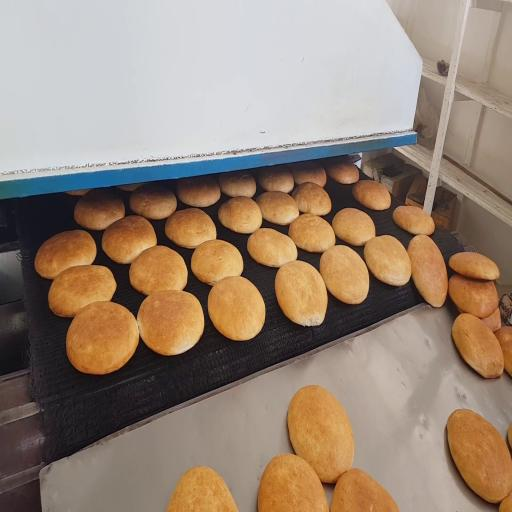bread: (288, 385, 354, 483), (447, 410, 511, 502), (67, 302, 138, 374), (137, 290, 204, 355), (258, 454, 328, 511), (48, 264, 117, 318), (208, 276, 265, 340), (275, 261, 327, 326), (452, 313, 503, 378), (167, 467, 237, 511), (35, 230, 96, 279), (320, 246, 369, 304), (331, 469, 398, 511), (408, 235, 447, 307), (130, 246, 187, 295), (102, 216, 156, 264), (364, 235, 411, 286), (191, 240, 243, 285), (449, 274, 498, 318), (74, 190, 125, 230), (165, 209, 216, 248), (247, 229, 297, 267), (289, 214, 335, 252), (332, 208, 375, 246), (218, 196, 262, 233), (130, 184, 176, 219), (256, 191, 299, 225), (176, 176, 221, 208), (449, 252, 499, 280), (292, 182, 331, 215), (393, 206, 434, 235), (353, 180, 390, 210), (258, 165, 294, 193), (218, 171, 256, 197), (323, 158, 359, 184), (291, 161, 326, 187), (495, 327, 511, 375), (480, 309, 501, 331), (481, 309, 501, 332), (494, 327, 511, 346), (502, 343, 511, 375), (118, 183, 143, 191), (499, 496, 511, 511), (66, 190, 89, 196), (507, 423, 511, 446)
